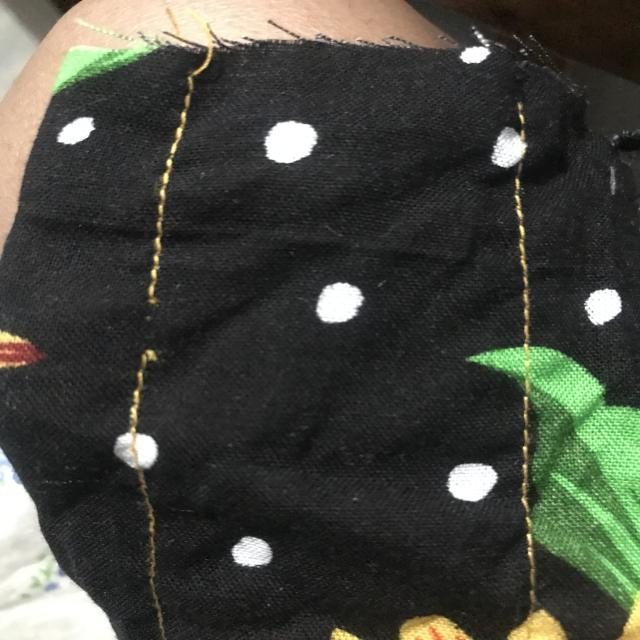broken: (128, 279, 185, 381)
good: (129, 161, 193, 245)
